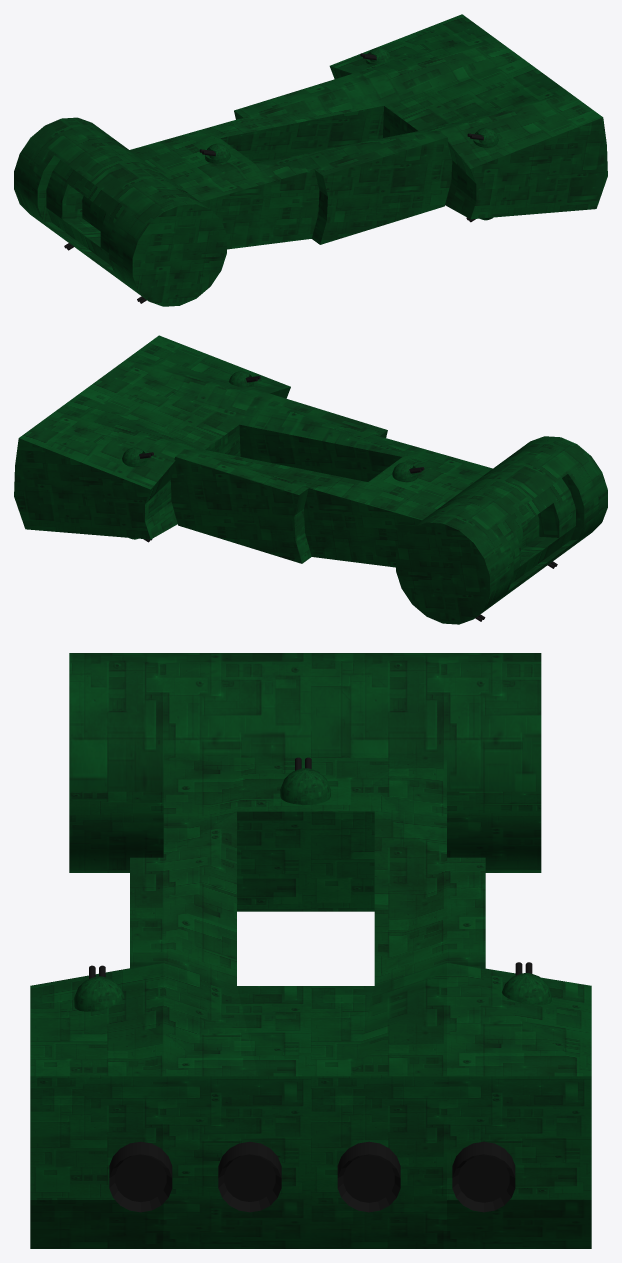
The model's file is SadorShip.FBX.
3 renders of one model, top to bottom at view 1: azimuth 30°, elevation 25°; view 2: azimuth 150°, elevation 25°; view 3: azimuth 270°, elevation 25°, orthographic. The views are drawn at different scales.
Parts seen in each view (by area): view 1: Cylinder001; view 2: Cylinder001, Sphere003; view 3: Cylinder001, Cylinder004, Cylinder005, Cylinder003, Cylinder002, Sphere003, Sphere002, Sphere001.
Boxes of the visible parts, bbox=[...] form: Cylinder001: bbox=[14, 14, 607, 306]; Cylinder001: bbox=[14, 335, 607, 624]; Sphere003: bbox=[392, 462, 417, 482]; Cylinder001: bbox=[30, 653, 591, 1248]; Cylinder004: bbox=[337, 1141, 400, 1212]; Cylinder005: bbox=[452, 1141, 515, 1212]; Cylinder003: bbox=[218, 1141, 281, 1212]; Cylinder002: bbox=[109, 1141, 172, 1212]; Sphere003: bbox=[280, 768, 330, 804]; Sphere002: bbox=[74, 976, 124, 1011]; Sphere001: bbox=[502, 973, 551, 1005].
Bounding box in the file's own units: 75 × 16.73 × 38.36.
Materials: 2 (1 with a texture image).
